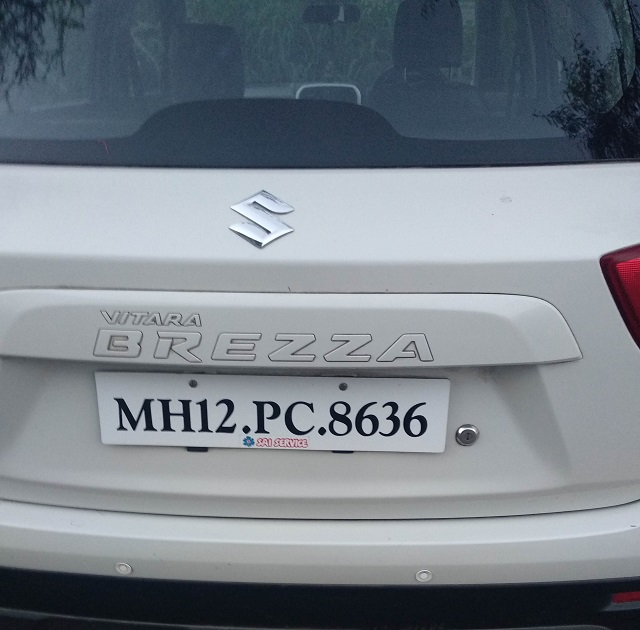licenseplate: (91, 366, 452, 457)
